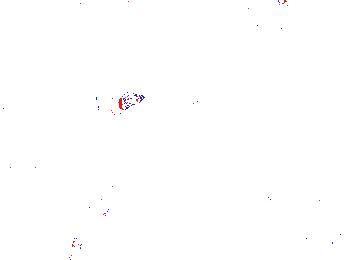X-ray fish: (65, 191, 91, 221)
glassfish: (69, 163, 131, 260), (93, 86, 149, 121)
red belly glassfish: (243, 12, 285, 32)
